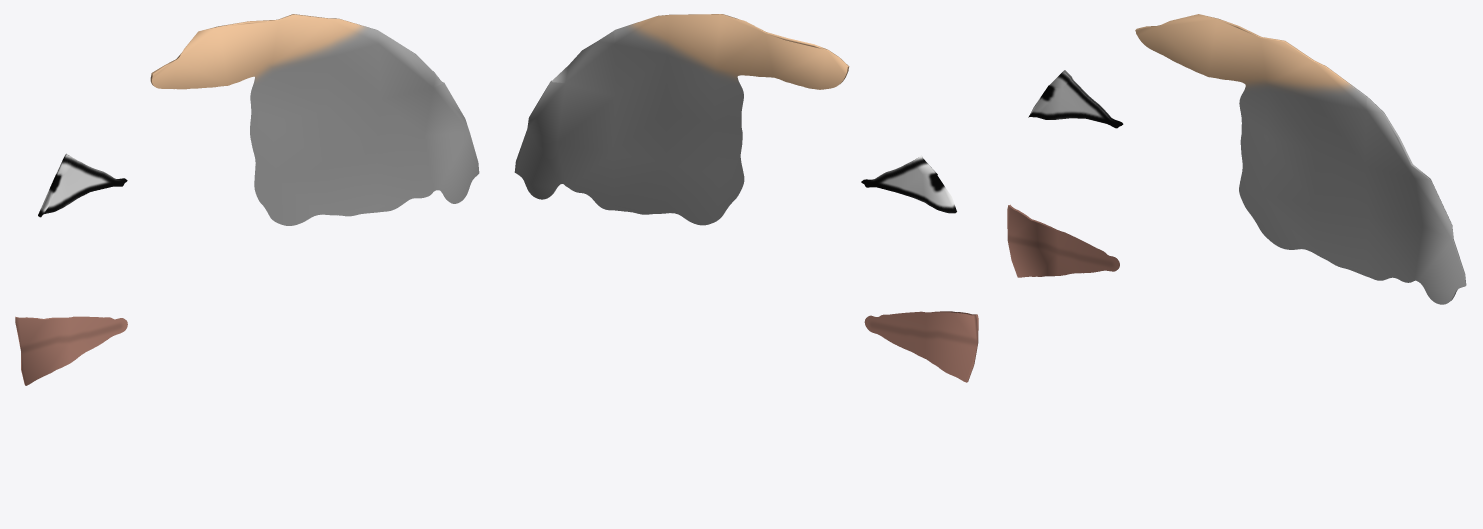
The model's file is wizardFace.obj.
3 views of the same model, side by side, from view 1: azimuth 30°, elevation 25°; view 2: azimuth 150°, elevation 25°; view 3: azimuth 330°, elevation 25° (orthographic).
Parts seen in each view (by area): view 1: Cylinder; view 2: Cylinder; view 3: Cylinder.
Part boxes in pixels (x1,y1,x2,y2): Cylinder: [15, 14, 479, 385]; Cylinder: [514, 14, 978, 382]; Cylinder: [1007, 14, 1466, 304].
Size of the model in its own units: 2.01 by 2 by 0.1.
